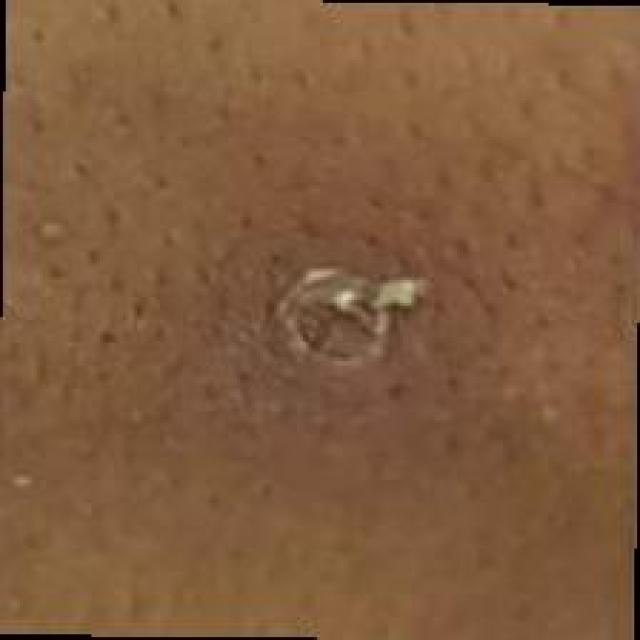monkeypox: (140, 125, 550, 522)
